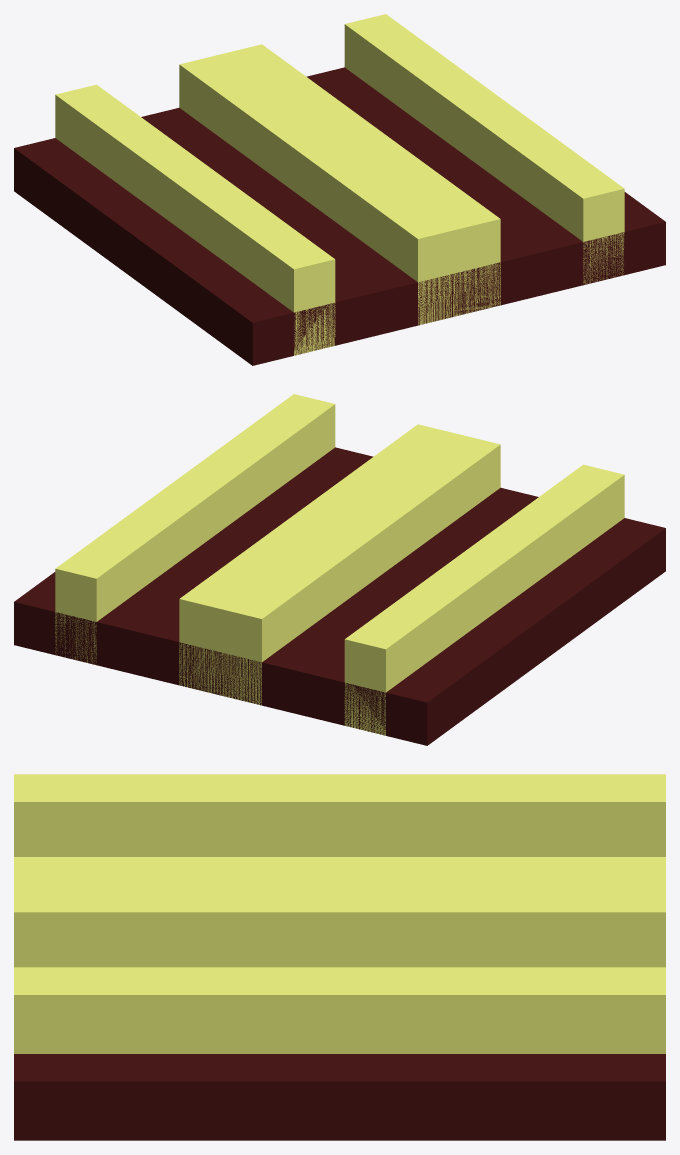
File: farm.fbx
3 views of the same model, one above another, from view 1: azimuth 30°, elevation 25°; view 2: azimuth 150°, elevation 25°; view 3: azimuth 270°, elevation 25° (orthographic). The views are drawn at different scales.
Parts seen in each view (by area): view 1: block_default_5, block_default_8, block_default_9, block_default_7; view 2: block_default_5, block_default_8, block_default_9, block_default_7; view 3: block_default_8, block_default_5, block_default_7, block_default_9.
Part boxes in pixels (<box>): block_default_5: <box>14,67,665,365</box>; block_default_8: <box>179,44,500,325</box>; block_default_9: <box>55,84,335,355</box>; block_default_7: <box>344,14,624,283</box>; block_default_5: <box>14,447,665,745</box>; block_default_8: <box>179,424,500,705</box>; block_default_9: <box>344,464,624,735</box>; block_default_7: <box>55,394,335,664</box>; block_default_8: <box>14,857,665,967</box>; block_default_5: <box>14,1054,665,1140</box>; block_default_7: <box>14,967,665,1053</box>; block_default_9: <box>14,774,665,856</box>.
Size of the model in its own units: 10 by 2 by 10.
